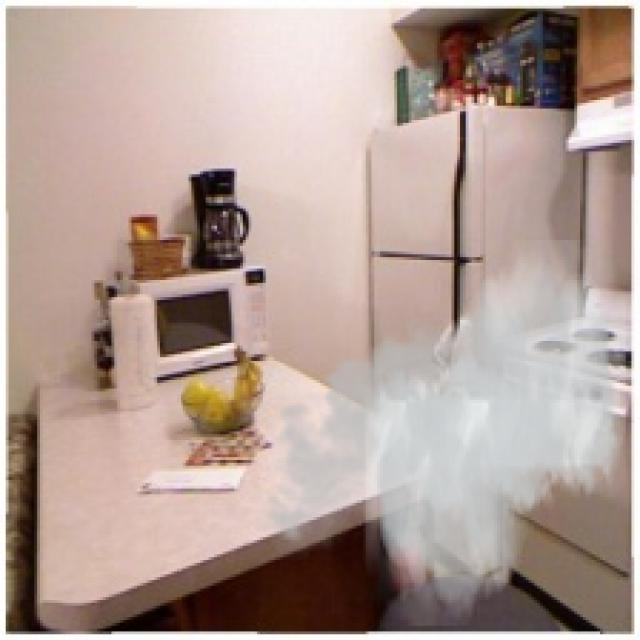smoke: (254, 240, 626, 626)
